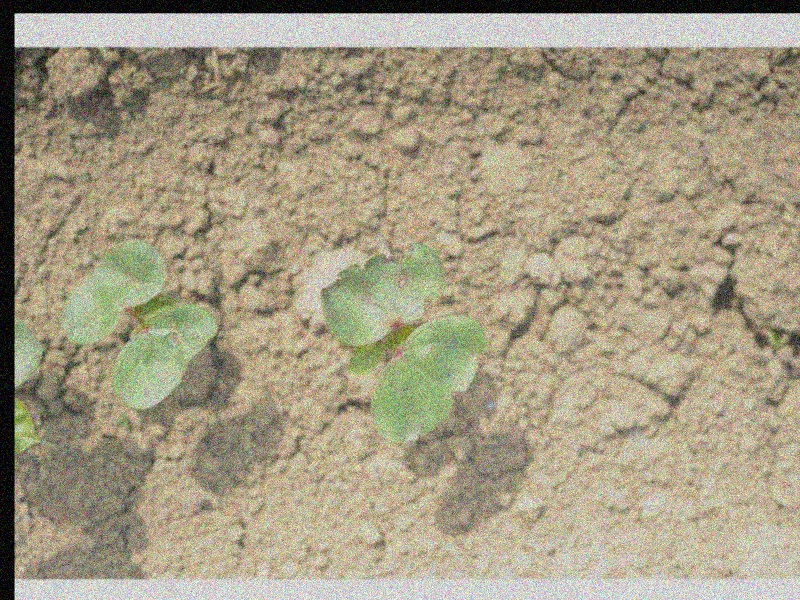cotton: (321, 240, 488, 445), (59, 237, 219, 411)
